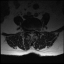CCS_severe_stenosis: (31, 29, 32, 34)
LFS_stenosis: (34, 28, 36, 32)
LLS_stenosis: (32, 29, 34, 34)
RFS_stenosis: (28, 28, 30, 33)
RLS_severe_stenosis: (30, 29, 31, 34)
